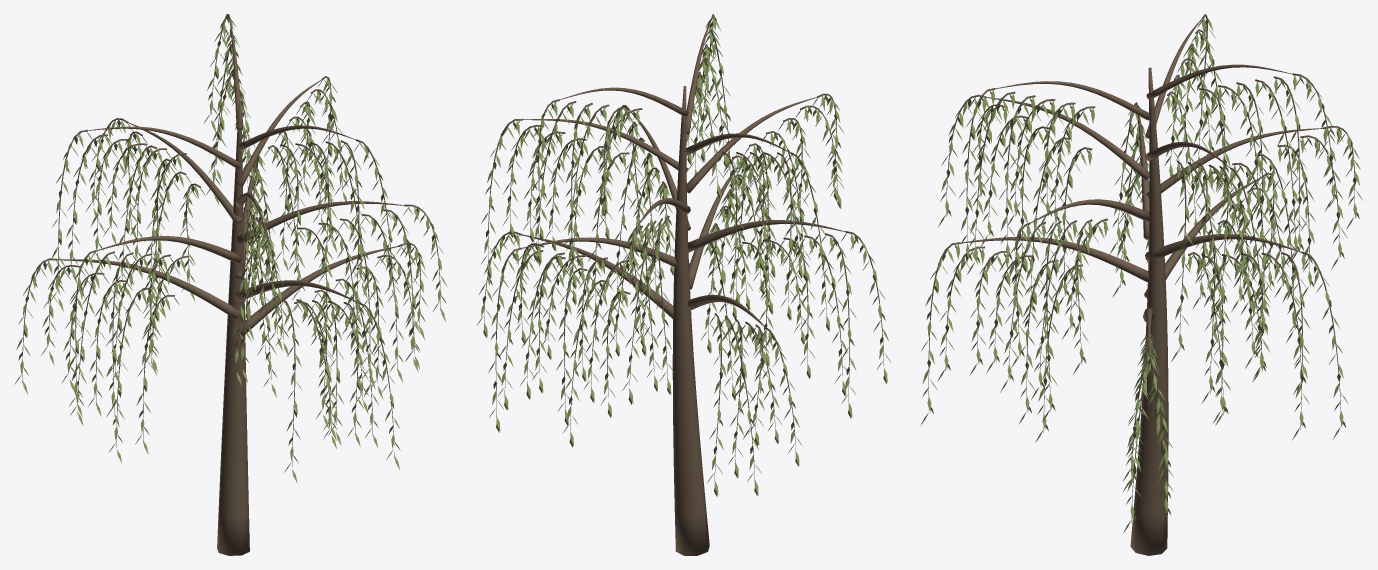
The model's file is willow-lod0.glb.
3 renders of one model, left to right at view 1: azimuth 30°, elevation 25°; view 2: azimuth 150°, elevation 25°; view 3: azimuth 270°, elevation 25°, orthographic. The views are drawn at different scales.
Visible parts, largest first — view 1: three dimensional leaves, rooted trunk and branch hierarchy; view 2: three dimensional leaves, rooted trunk and branch hierarchy; view 3: three dimensional leaves, rooted trunk and branch hierarchy.
Boxes of the visible parts, left/top/right/bottom form: three dimensional leaves: left=15, top=15, right=447, bottom=483; rooted trunk and branch hierarchy: left=22, top=14, right=440, bottom=555; three dimensional leaves: left=477, top=16, right=890, bottom=496; rooted trunk and branch hierarchy: left=484, top=14, right=884, bottom=555; three dimensional leaves: left=921, top=16, right=1362, bottom=533; rooted trunk and branch hierarchy: left=928, top=14, right=1354, bottom=555.
Size of the model in its own units: 5.9 by 6.99 by 5.53.
